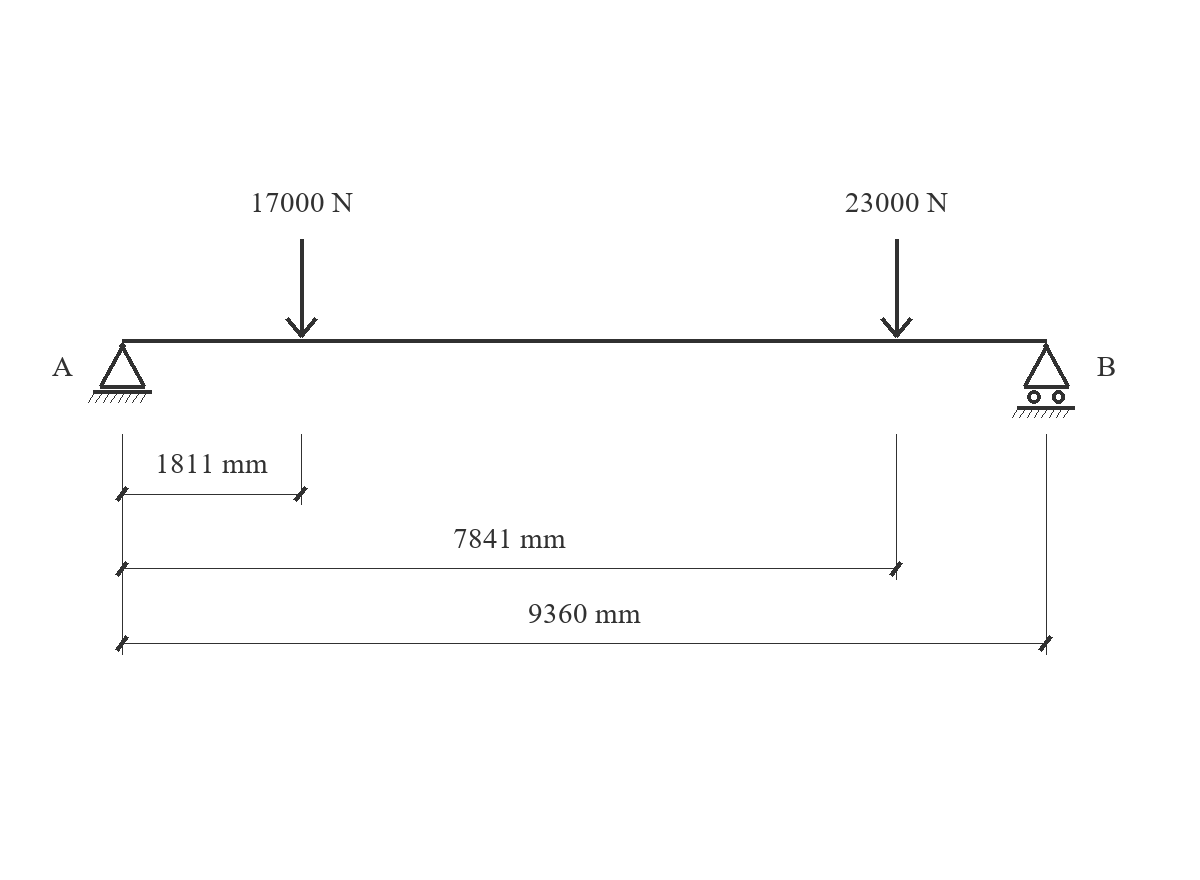pin_support: (88, 343, 152, 403)
point_load: (285, 239, 318, 338), (880, 239, 913, 338)
roller_support: (1012, 343, 1075, 418)
